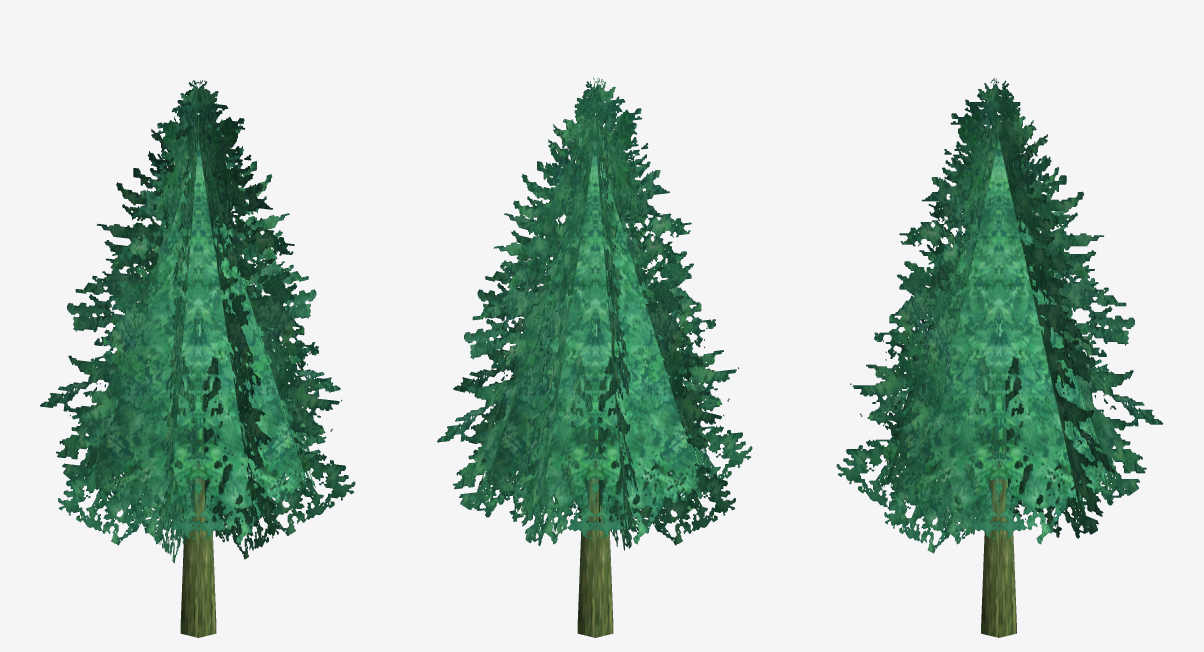
File: PineTree.fbx
3 renders of one model, left to right at view 1: azimuth 30°, elevation 25°; view 2: azimuth 150°, elevation 25°; view 3: azimuth 270°, elevation 25°, orthographic.
Visible parts, largest first — view 1: TreeA.025; view 2: TreeA.025; view 3: TreeA.025.
Part boxes in pixels (<box>): TreeA.025: <box>40,80,355,637</box>; TreeA.025: <box>437,77,752,637</box>; TreeA.025: <box>836,78,1163,637</box>.
Bounding box in the file's own units: 146 × 260 × 146.
Materials: 1 (1 with a texture image).
